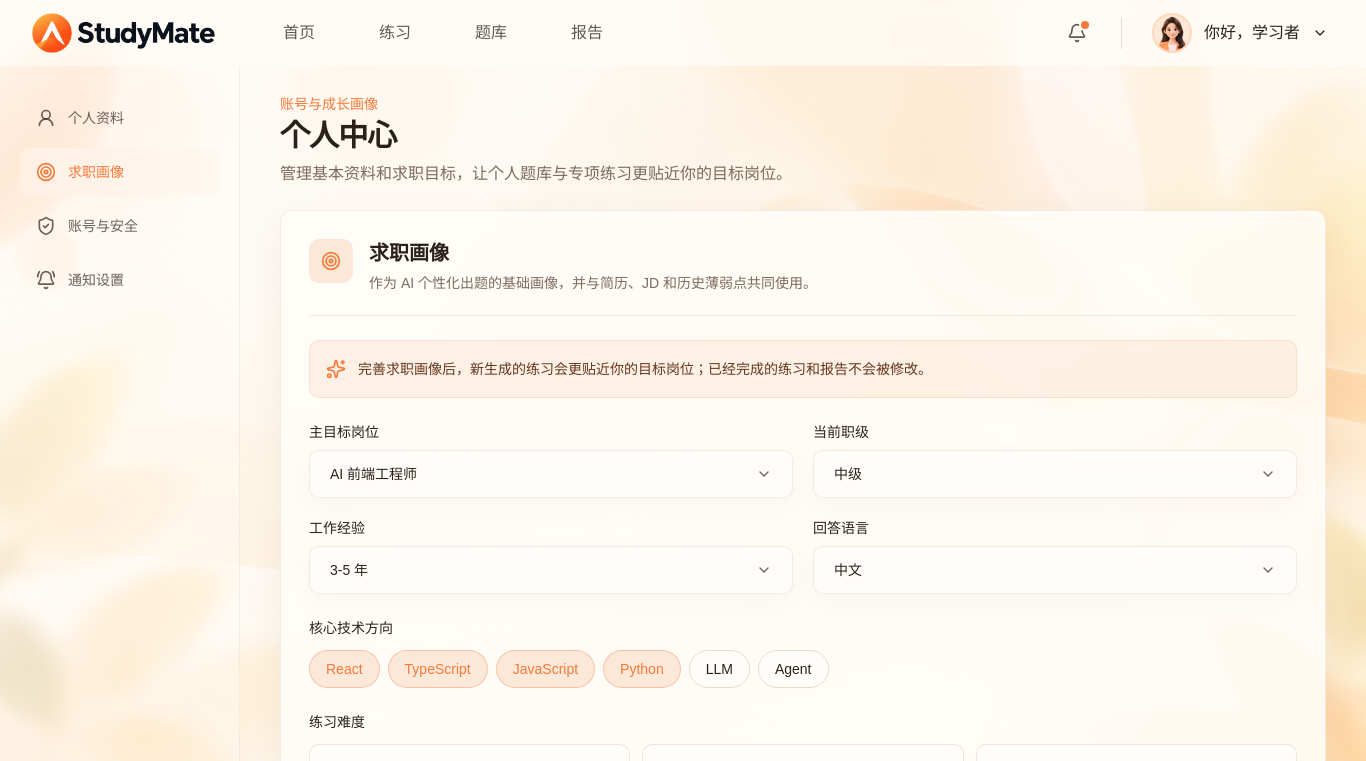
Scenario: StudyMate home page › keeps every select option on one horizontal row
This screenshot has width=1366, height=761.
Click the dropdown named "主目标岗位" at (374, 474), box top-left (309, 450), bottom-right (793, 498)
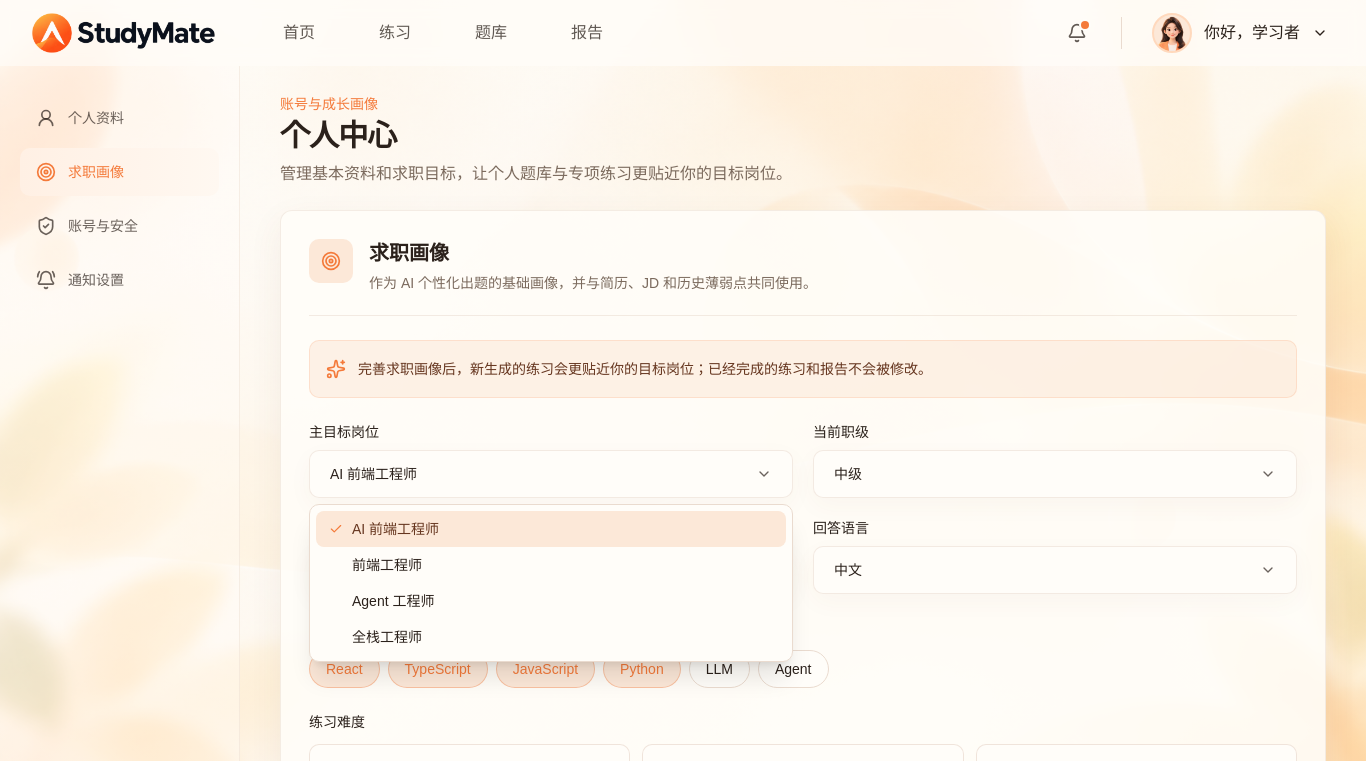
Result: the number of options is 4 at top-left (316, 511), bottom-right (786, 547); top-left (352, 557), bottom-right (422, 573); top-left (352, 593), bottom-right (434, 609); top-left (352, 629), bottom-right (422, 645)
